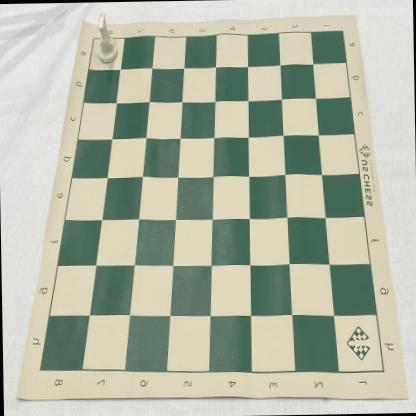white-knight: (96, 10, 118, 64)
